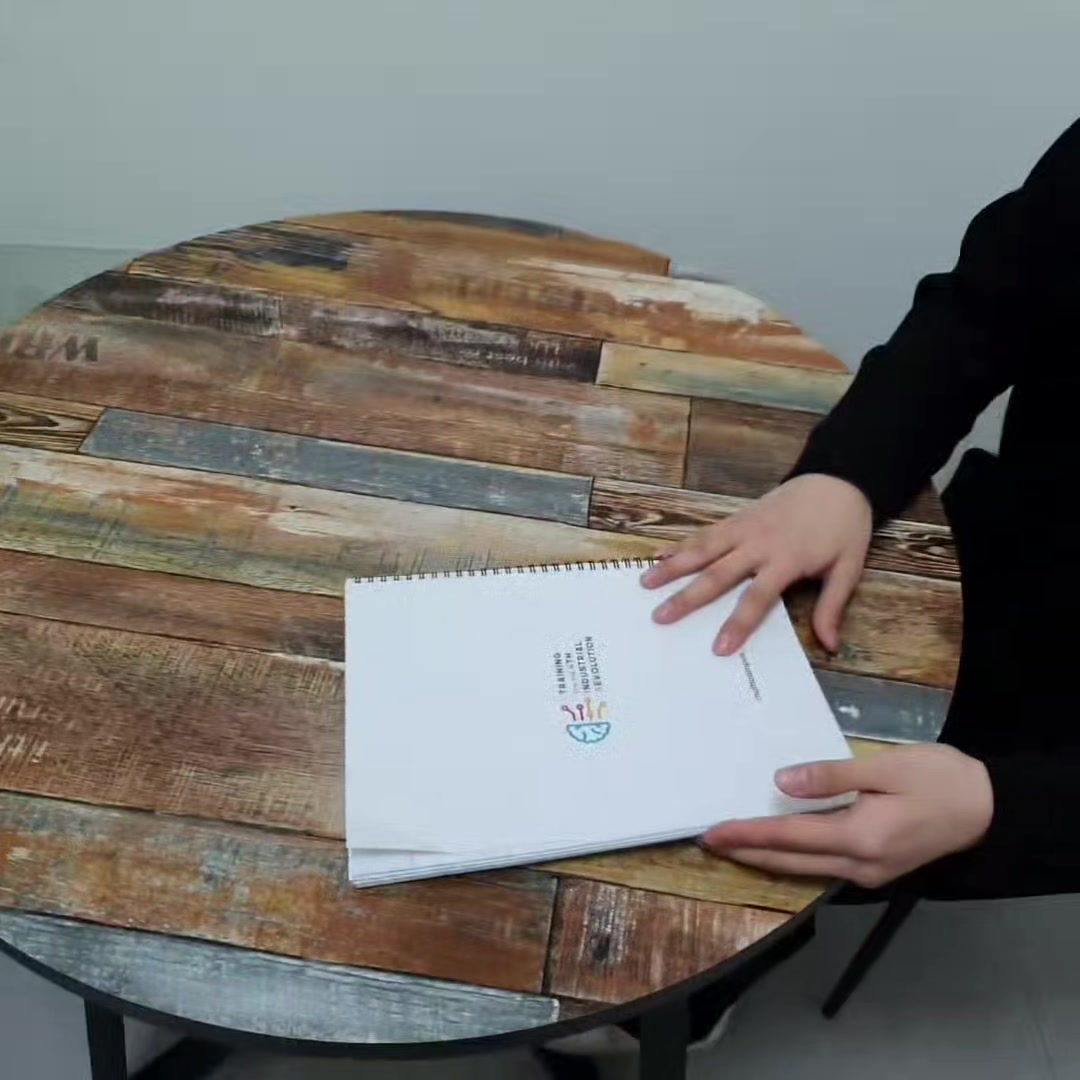book: (335, 543, 873, 903)
